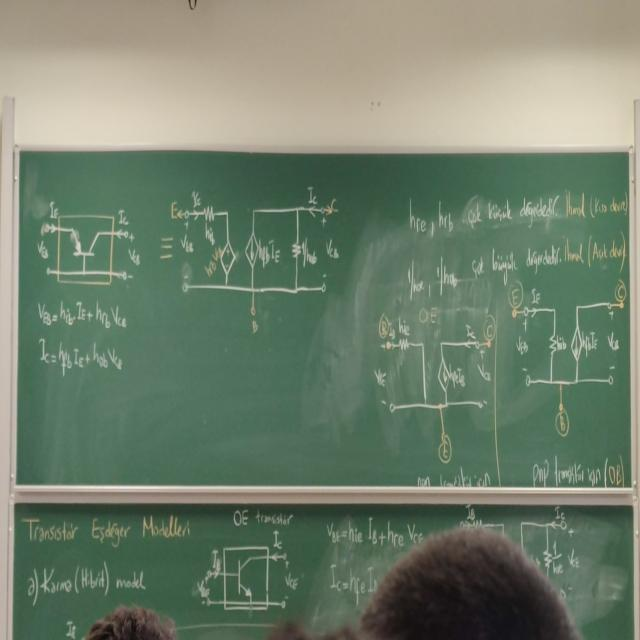image: (164, 174, 347, 336), (371, 301, 497, 469), (503, 276, 631, 438), (190, 527, 301, 620), (35, 196, 143, 289)
math: (29, 292, 136, 382)
text: (397, 182, 629, 290), (16, 506, 190, 600)
